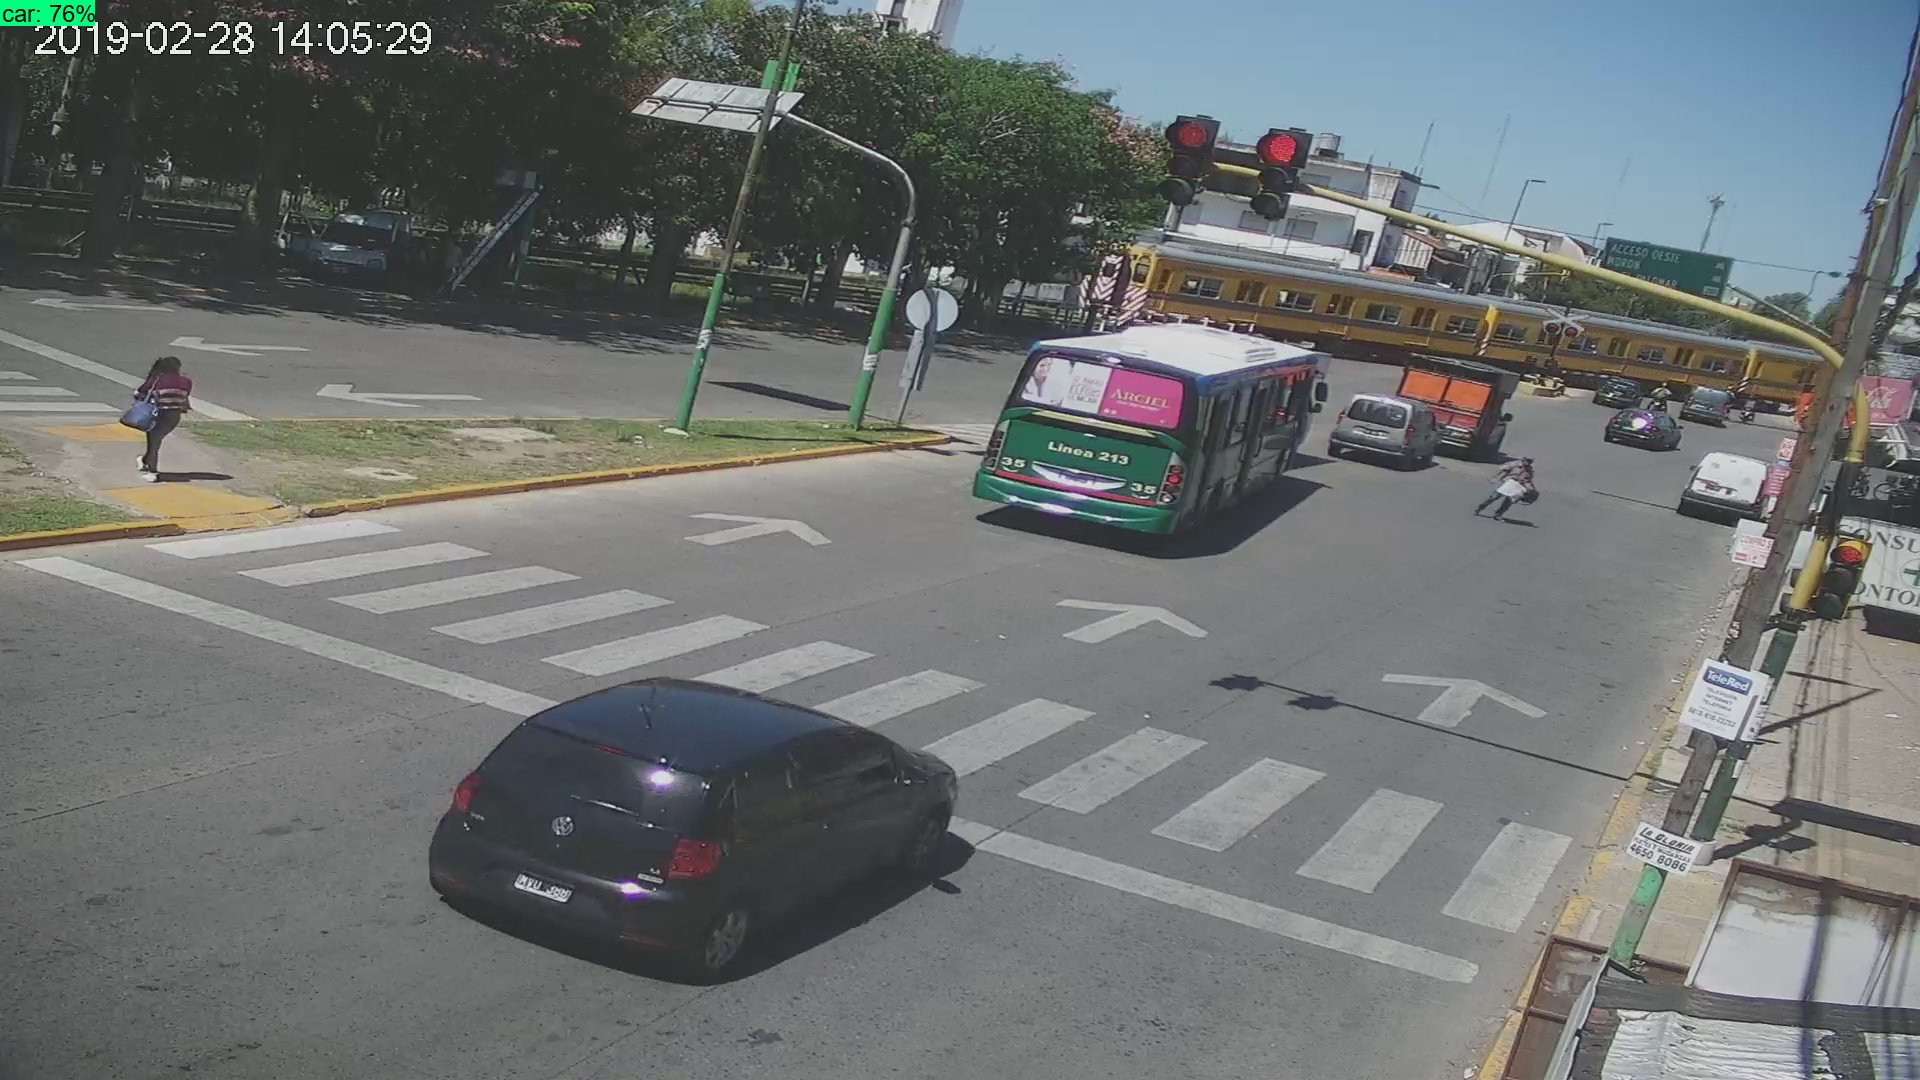bus: (963, 328, 1333, 560)
car: (404, 644, 992, 980), (1317, 382, 1449, 477), (1671, 439, 1776, 535), (1596, 398, 1680, 462)
